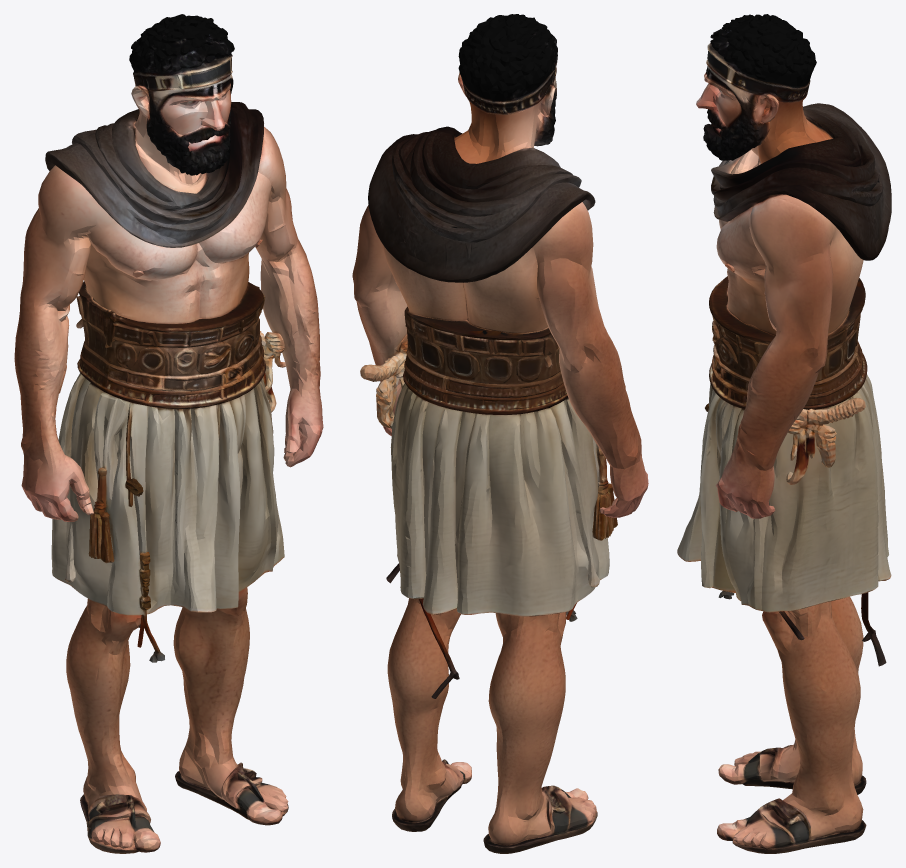
The model's file is royal_guard_rodin_source.glb.
3 renders of one model, left to right at view 1: azimuth 30°, elevation 25°; view 2: azimuth 150°, elevation 25°; view 3: azimuth 270°, elevation 25°, orthographic. The views are drawn at different scales.
Parts seen in each view (by area): view 1: model; view 2: model; view 3: model.
Boxes of the visible parts, left/top/right/bottom form: model: left=14, top=14, right=323, bottom=853; model: left=352, top=14, right=648, bottom=853; model: left=677, top=14, right=891, bottom=853.
Bounding box in the file's own units: 0.7052 × 1.9 × 0.4675.
1 material, 1 textured.
